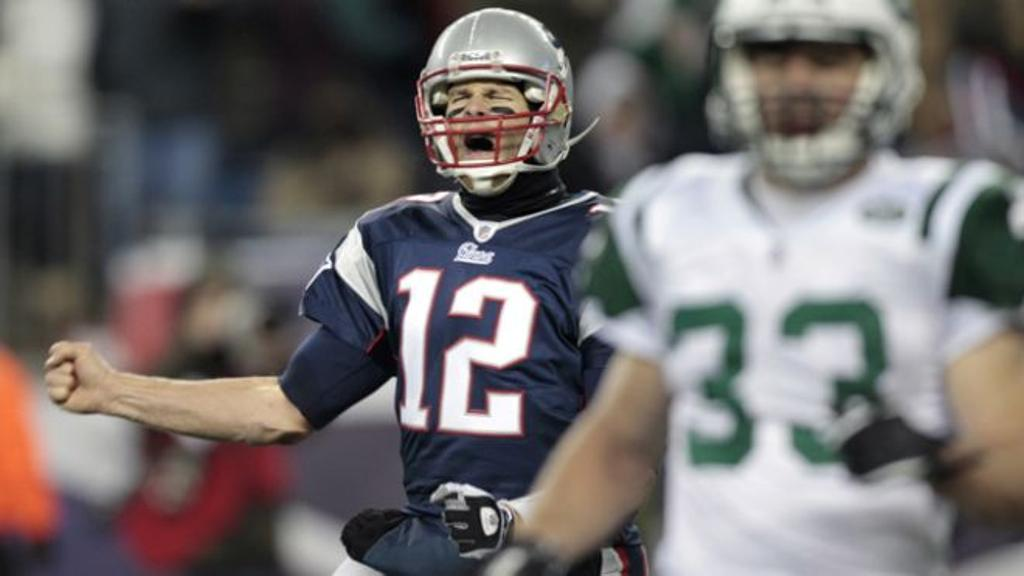face: (742, 32, 874, 168), (438, 68, 552, 186)
